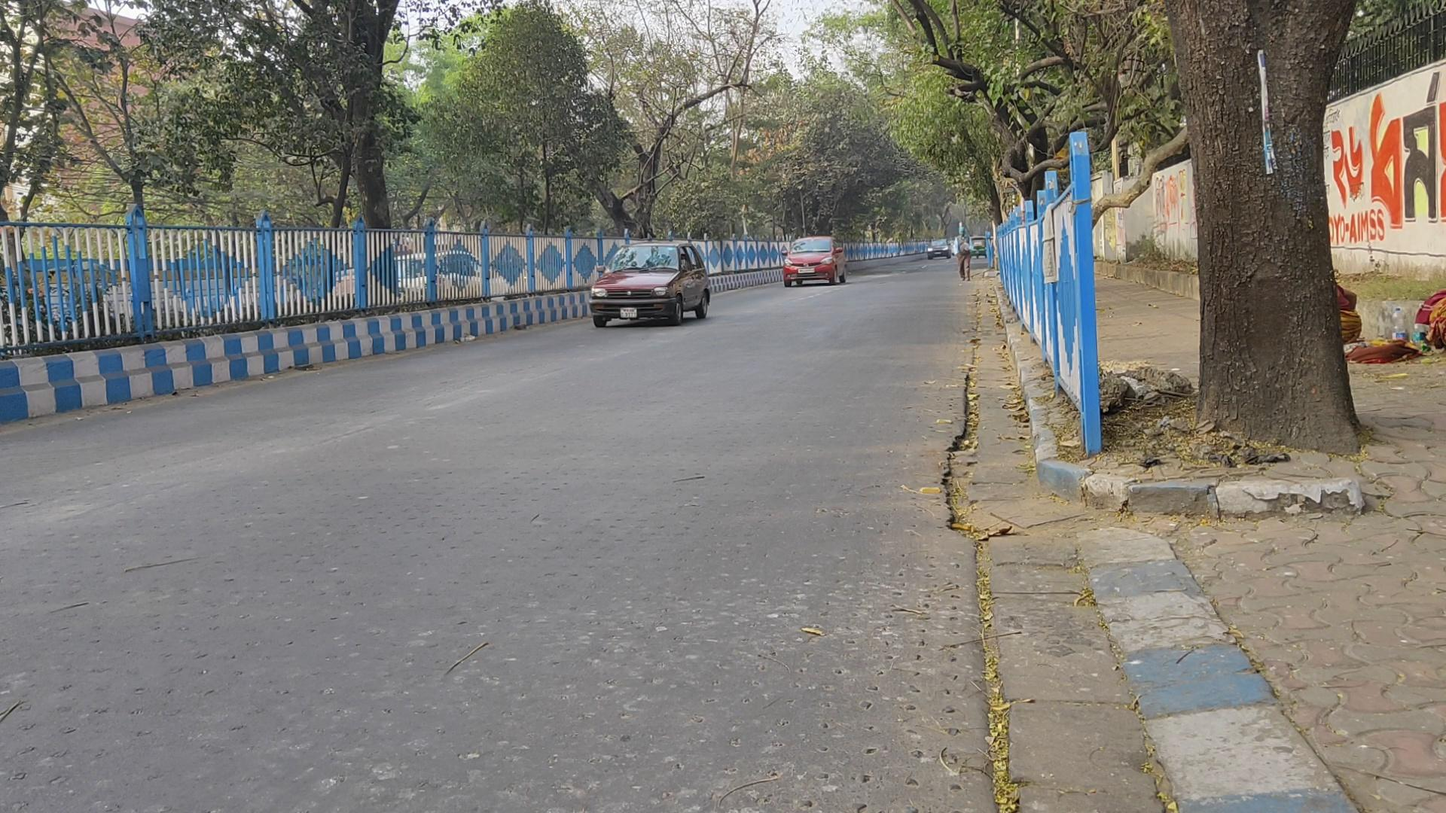Auto: (970, 234, 989, 261)
car: (590, 239, 712, 327), (780, 236, 847, 291), (926, 238, 952, 260)
